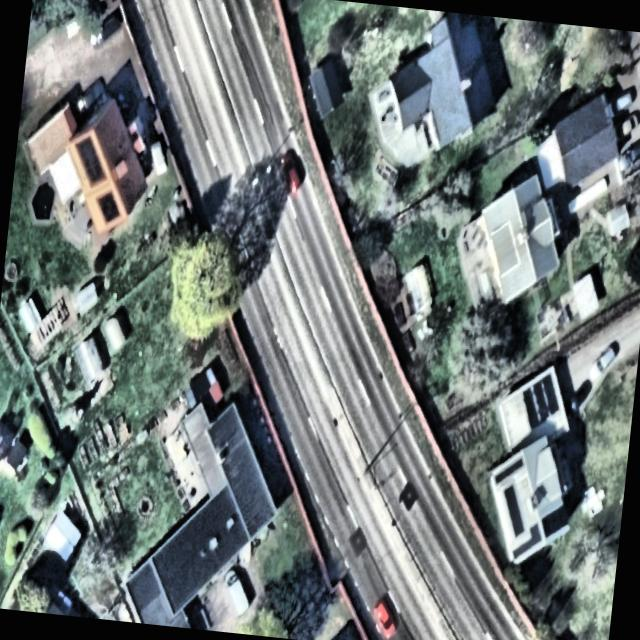roof_pv: (70, 133, 110, 190), (497, 478, 530, 540), (508, 518, 547, 564), (492, 450, 528, 489), (94, 184, 125, 225)
